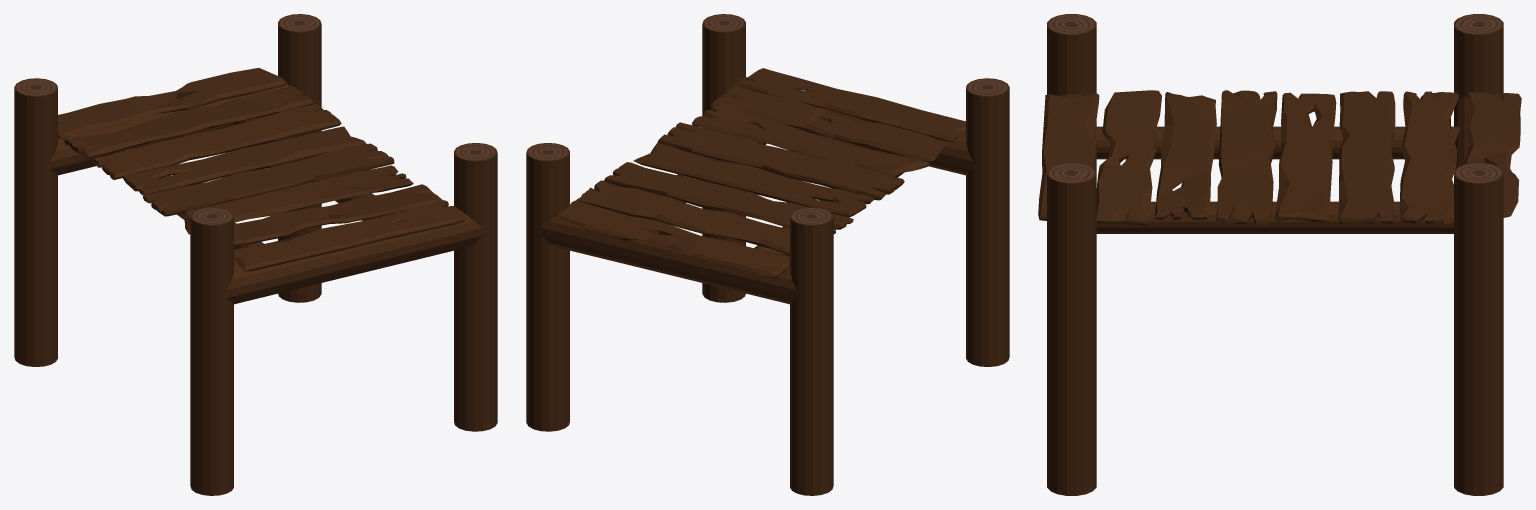
Rendered from Bridge.fbx.
3 renders of one model, left to right at view 1: azimuth 30°, elevation 25°; view 2: azimuth 150°, elevation 25°; view 3: azimuth 270°, elevation 25°, orthographic. The views are drawn at different scales.
Parts seen in each view (by area): view 1: Bridg, Planks.Front; view 2: Bridg, Planks.Front; view 3: Planks.Front, Bridg.
Boxes of the visible parts, left/top/right/bottom form: Bridg: left=14, top=14, right=497, bottom=495; Planks.Front: left=58, top=68, right=465, bottom=271; Bridg: left=526, top=14, right=1009, bottom=495; Planks.Front: left=561, top=68, right=965, bottom=278; Planks.Front: left=1038, top=90, right=1521, bottom=225; Bridg: left=1047, top=14, right=1503, bottom=495.
Size of the model in its own units: 4.49 by 3.86 by 5.41.
